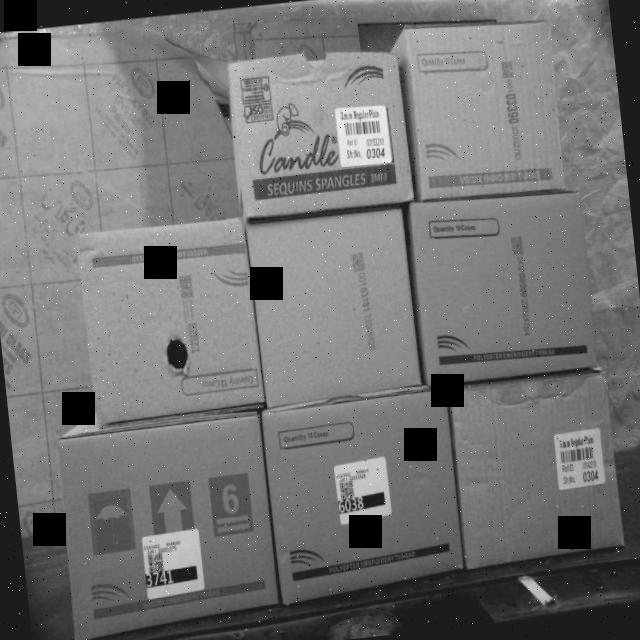box: (54, 412, 280, 634), (258, 387, 466, 602), (77, 213, 265, 425), (408, 182, 600, 387), (244, 204, 425, 405), (448, 372, 626, 566), (226, 42, 417, 222), (401, 12, 570, 204)
